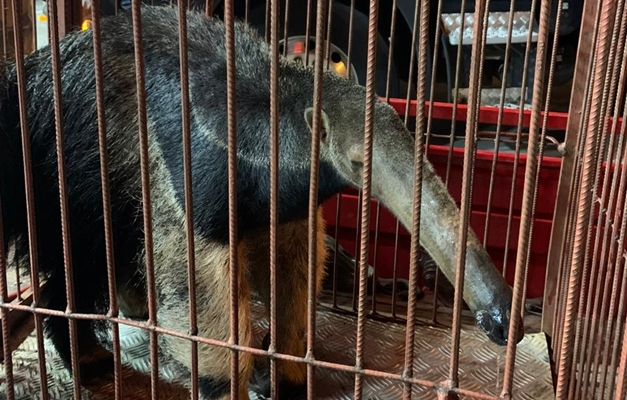TamanduaBandeira: (8, 5, 531, 386)
